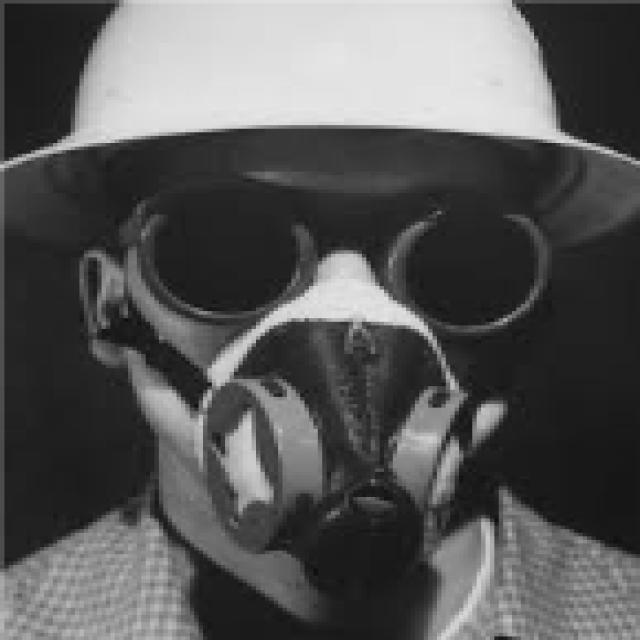glasses: (91, 154, 566, 338)
